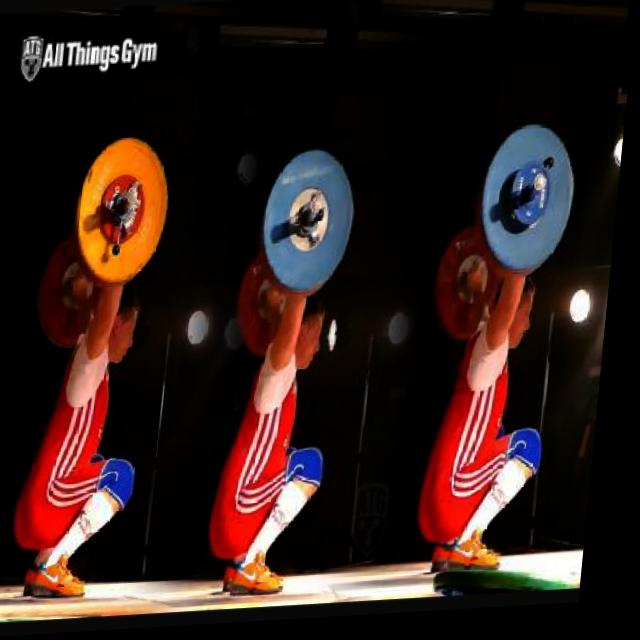barbell: (479, 125, 592, 288), (73, 130, 184, 293), (259, 147, 371, 307)
